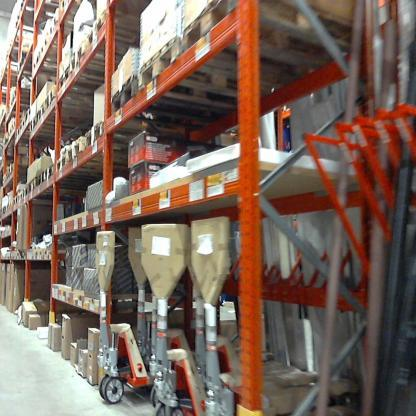pallets: (111, 3, 311, 122), (54, 123, 160, 173), (56, 17, 111, 100), (29, 74, 58, 142), (27, 153, 62, 202), (20, 246, 51, 263)
